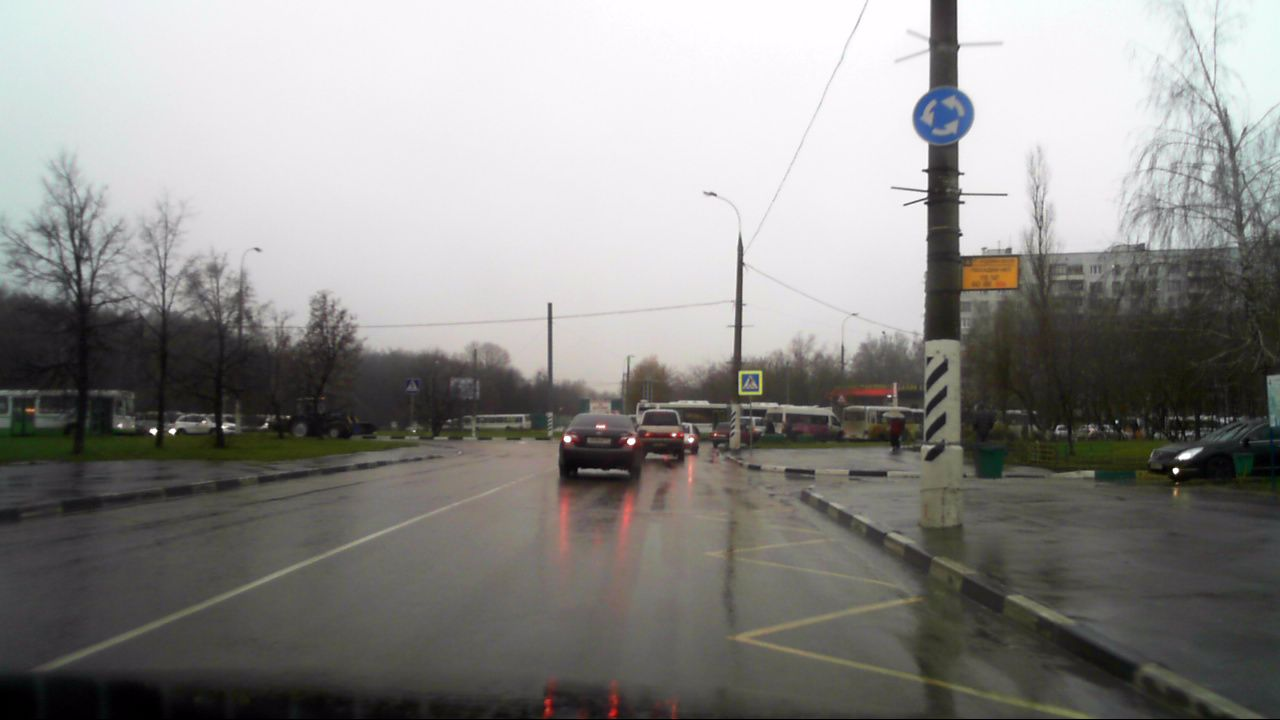Round-About: (911, 88, 975, 145)
